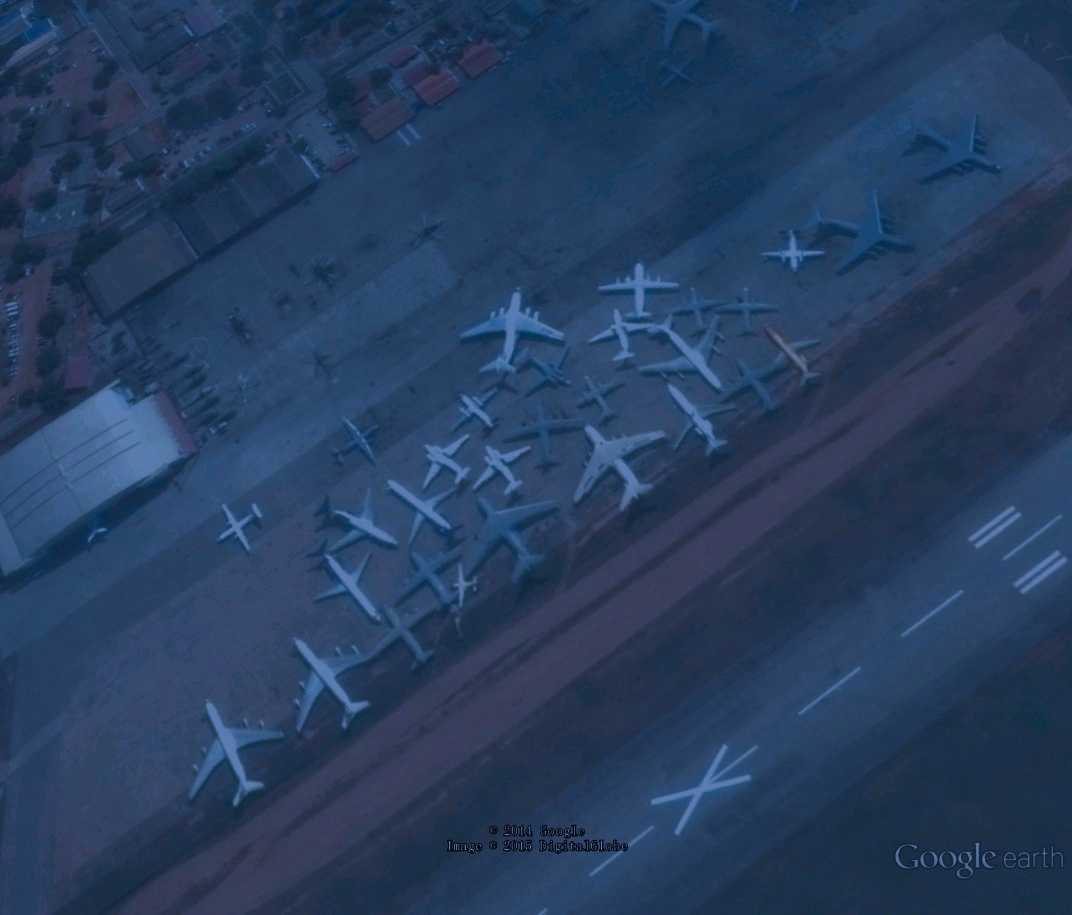aircraft: (449, 282, 570, 381), (187, 697, 289, 814), (457, 487, 567, 589), (571, 418, 672, 529), (794, 189, 918, 279), (286, 631, 383, 739), (891, 108, 1005, 186), (631, 310, 730, 394), (308, 538, 388, 628), (311, 483, 403, 561), (657, 378, 744, 459), (500, 399, 591, 474), (385, 544, 466, 625), (389, 472, 467, 555), (591, 258, 687, 322), (371, 601, 449, 678), (714, 352, 799, 417), (757, 325, 832, 393), (646, 3, 724, 58), (470, 436, 535, 502), (754, 223, 828, 279), (712, 285, 786, 340), (583, 306, 654, 363), (418, 432, 481, 496), (661, 285, 733, 337), (511, 343, 580, 397), (325, 409, 383, 472), (446, 385, 513, 438), (214, 495, 266, 562), (573, 372, 634, 426), (443, 559, 482, 616), (648, 57, 699, 90)
